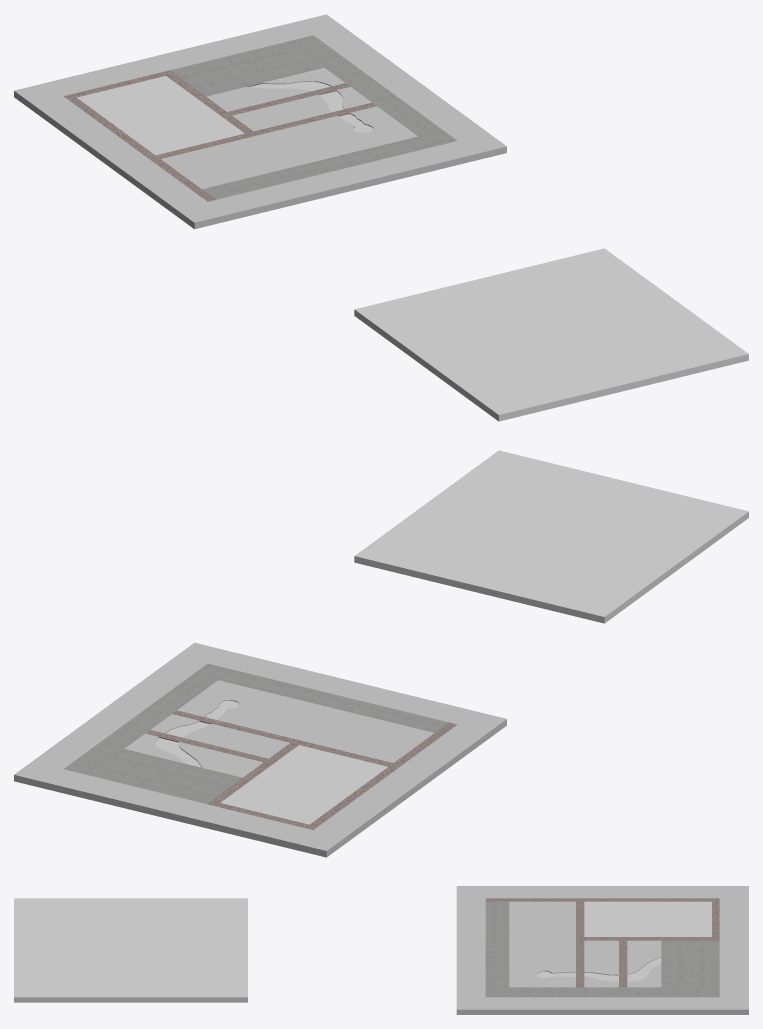
File: 광장 ground.fbx
3 views of the same model, one above another, from view 1: azimuth 30°, elevation 25°; view 2: azimuth 150°, elevation 25°; view 3: azimuth 270°, elevation 25° (orthographic). The views are drawn at different scales.
Parts seen in each view (by area): view 1: Box005, outside, Box003, Box008, Box010, outside001, Box006, Box007, Box009; view 2: Box005, outside, Box003, Box008, Box010, outside001, Box006, Box007, Box009; view 3: Box005, outside, Box003, Box008, Box010, outside001, Box006, Box007, Box009.
Part boxes in pixels (x1,y1,x2,y2): Box005: (354,248,748,421); outside: (14,14,506,229); Box003: (170,35,457,199); Box008: (161,106,417,188); Box010: (77,76,244,155); outside001: (63,70,376,201); Box006: (232,87,371,131); Box007: (206,68,344,111); Box009: (249,81,373,132); Box005: (354,450,748,623); outside: (14,642,506,857); Box003: (63,663,448,803); Box008: (177,680,434,762); Box010: (220,745,387,824); outside001: (145,710,457,830); Box006: (150,714,289,758); Box007: (125,733,263,777); Box009: (155,700,239,767); Box005: (14,898,247,1002); outside: (456,886,748,1014); Box003: (485,901,719,997); Box008: (509,901,575,987); Box010: (584,901,711,936); outside001: (485,898,719,987); Box006: (584,940,618,987); Box007: (627,940,661,987); Box009: (536,957,661,982).
Size of the model in its own units: 5000 by 100 by 12565.
